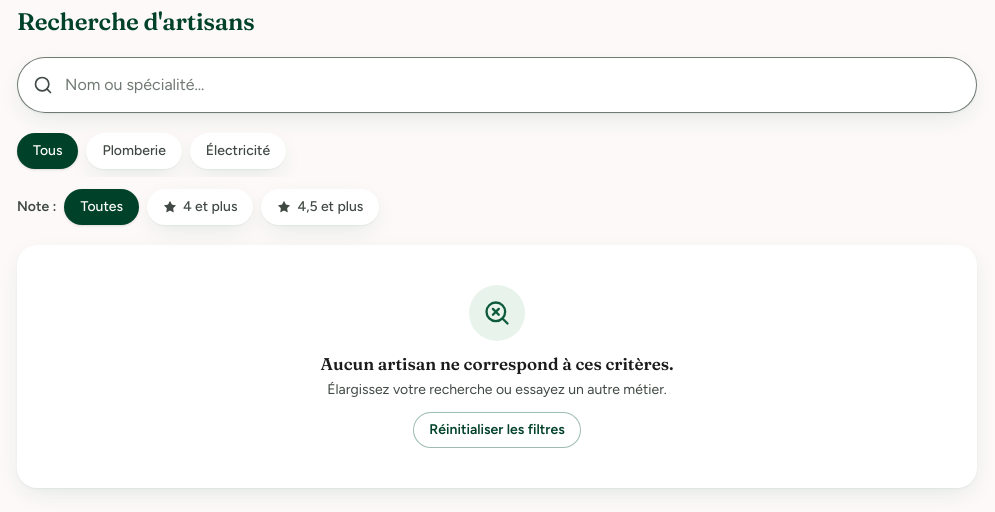
Test: SearchScreen › filtres serveur (plus aucun filtrage en mémoire) › filtre par métier (code serveur) via les pastilles, état exposé par aria-pressed
Click the button "Électricité" at x=238, y=151, box x1=190 y1=133 x2=286 y2=169
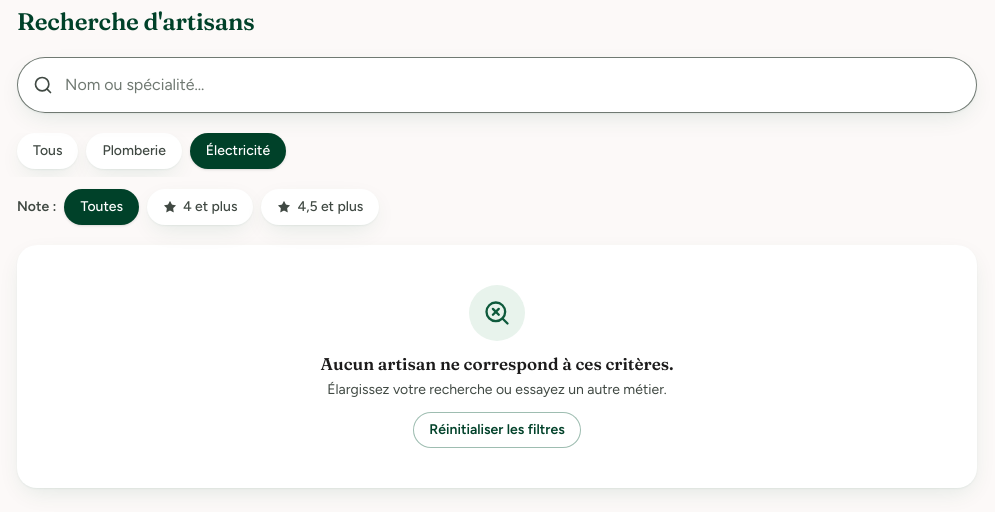
Now the button "Électricité" is pressed, box x1=190 y1=133 x2=286 y2=169
Now the button "Tous" is not pressed, box x1=17 y1=133 x2=78 y2=169
